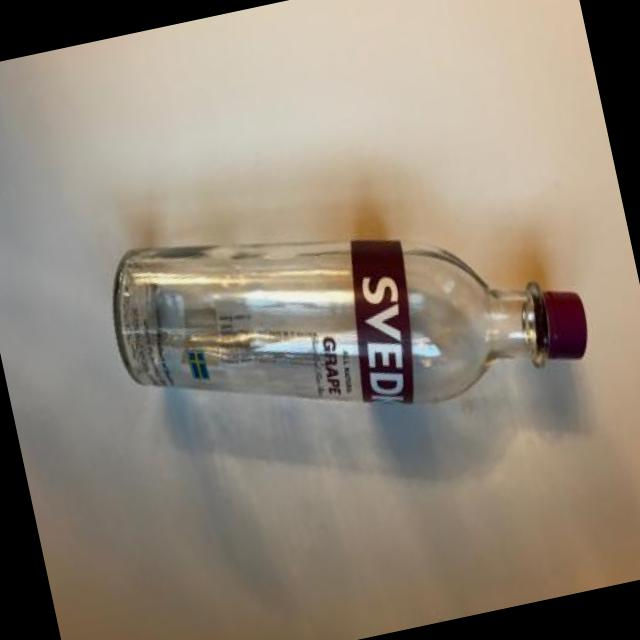chai_thuy_tinh: (113, 240, 587, 403)
